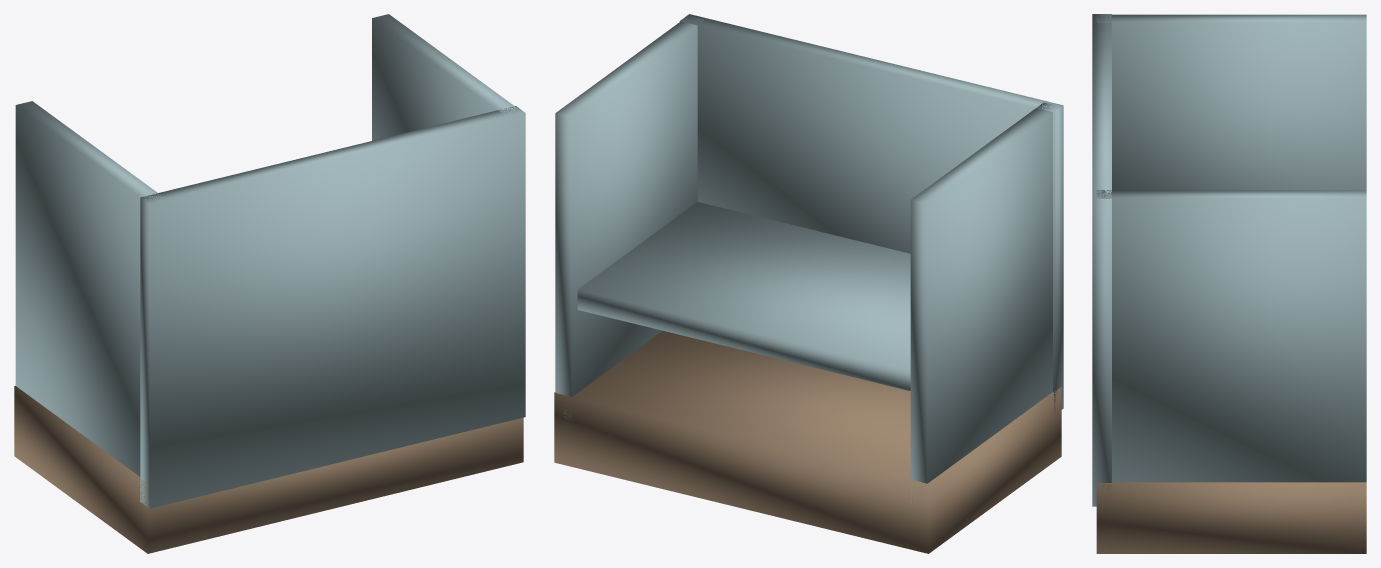
File: pie_display__tall.glb
3 views of the same model, side by side, from view 1: azimuth 30°, elevation 25°; view 2: azimuth 150°, elevation 25°; view 3: azimuth 270°, elevation 25° (orthographic).
Parts seen in each view (by area): view 1: world; view 2: world; view 3: world.
Boxes of the visible parts, left/top/right/bottom form: world: left=14, top=14, right=525, bottom=553; world: left=554, top=14, right=1063, bottom=553; world: left=1092, top=14, right=1366, bottom=553.
Size of the model in its own units: 0.78 by 0.696 by 0.4875.
